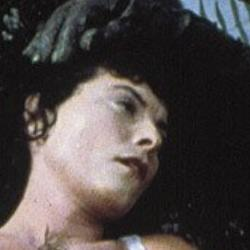face: (2, 27, 191, 231)
